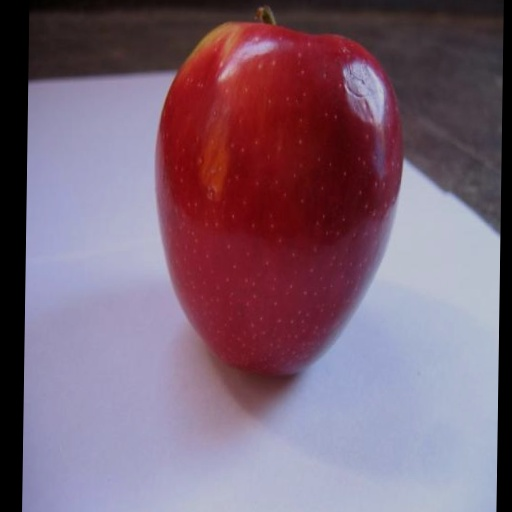fruit: (156, 23, 401, 374)
